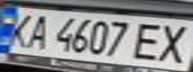0: (87, 17, 112, 56)
4: (51, 15, 75, 53)
6: (69, 16, 90, 55)
7: (103, 18, 136, 57)
A: (21, 11, 54, 51)
E: (127, 19, 172, 63)
K: (0, 10, 39, 49)
X: (151, 20, 193, 65)
